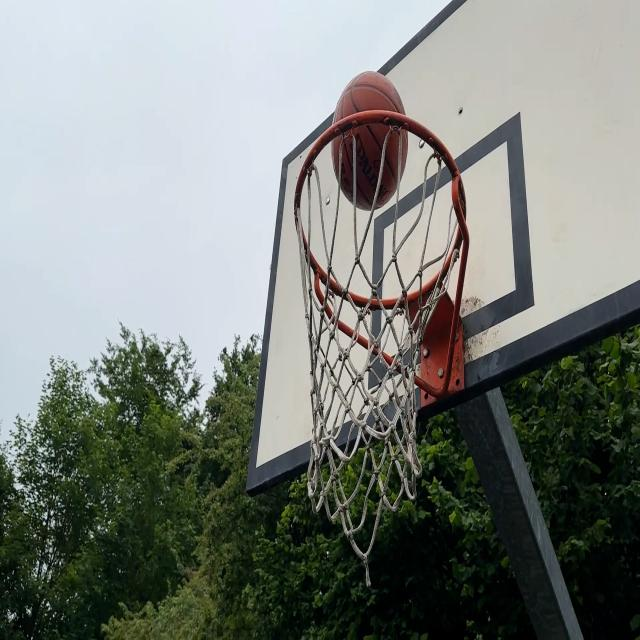rebound_hit: (333, 74, 408, 216)
